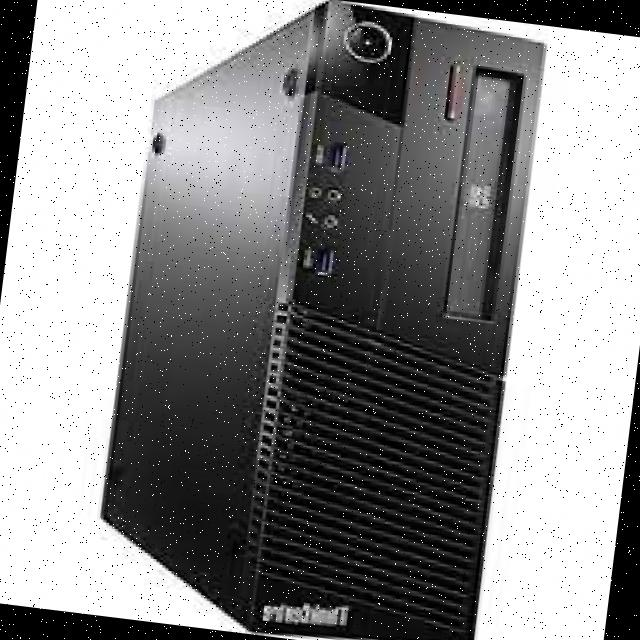Computer: (71, 0, 565, 640)
